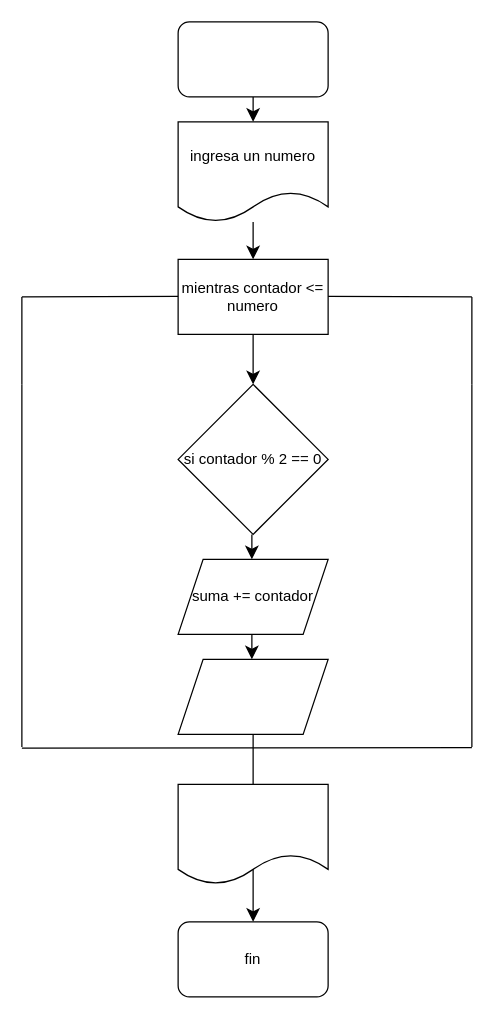
This 495x1019 diagram has some shape labels left out. Here are the shapes that lost their labels. From the top down, the centre of each, then its label:
[252,59]: inicio
[252,696]: contador++
[252,833]: La suma de los numeros pares es
